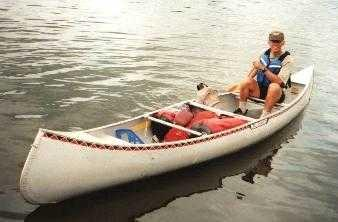kayak: (17, 77, 318, 206)
